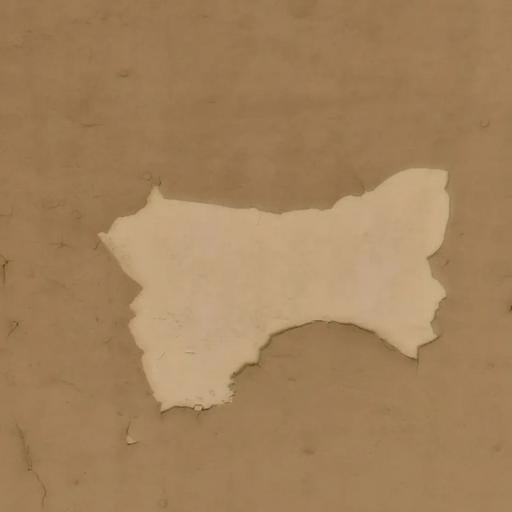peeling: (87, 153, 466, 419)
